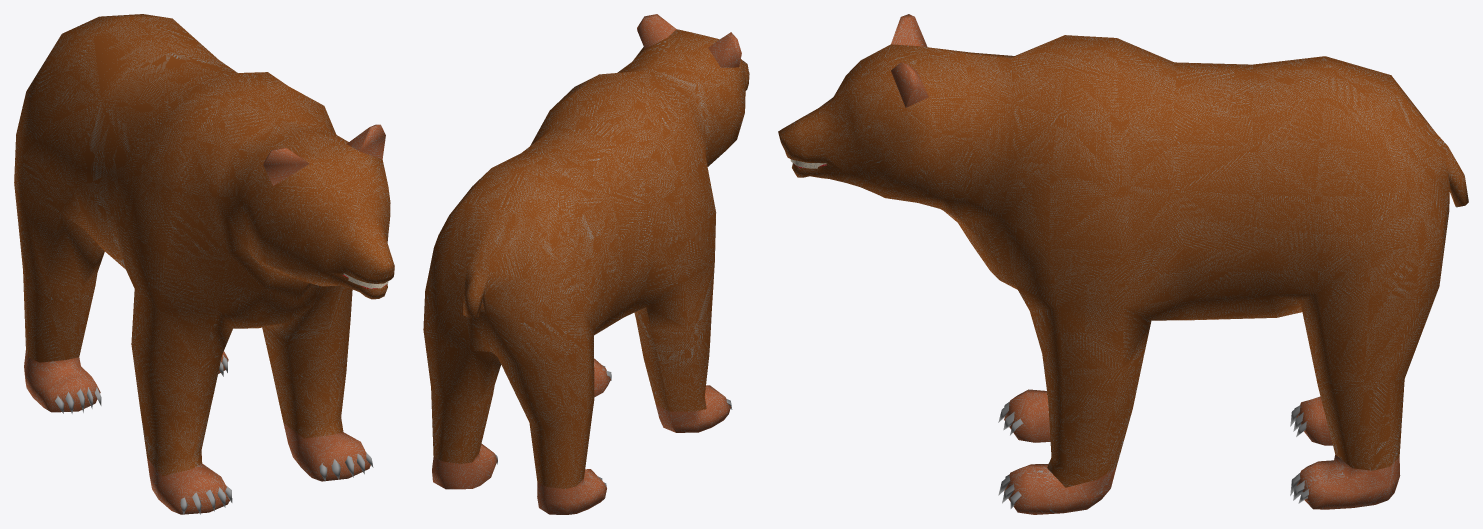
3 views of the same model, side by side, from view 1: azimuth 30°, elevation 25°; view 2: azimuth 150°, elevation 25°; view 3: azimuth 270°, elevation 25° (orthographic). The views are drawn at different scales.
Visible parts, largest first — view 1: bear_____1 (×6); view 2: bear_____1 (×7); view 3: bear_____1 (×7).
Boxes of the visible parts, box(x1,y1,x2,y2) form: bear_____1 (×6): box(14, 14, 394, 514); bear_____1 (×7): box(423, 14, 749, 514); bear_____1 (×7): box(778, 14, 1468, 514).
Bounding box in the file's own units: 10.24 × 28.84 × 19.71.
